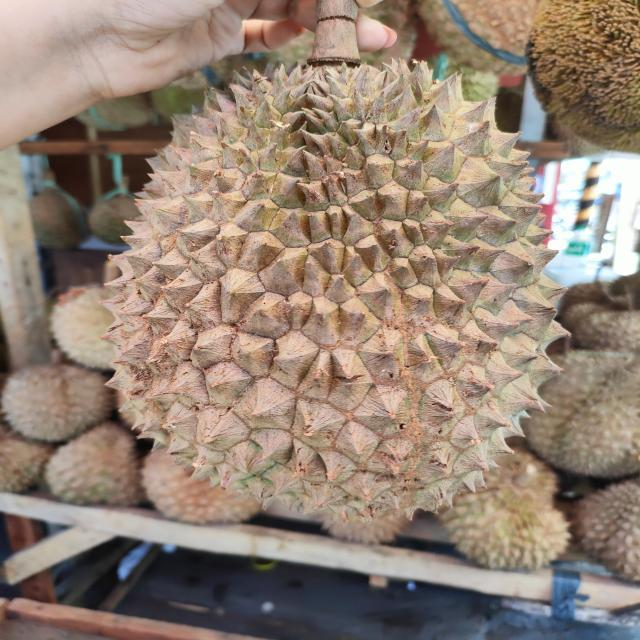mature: (100, 53, 570, 525)
